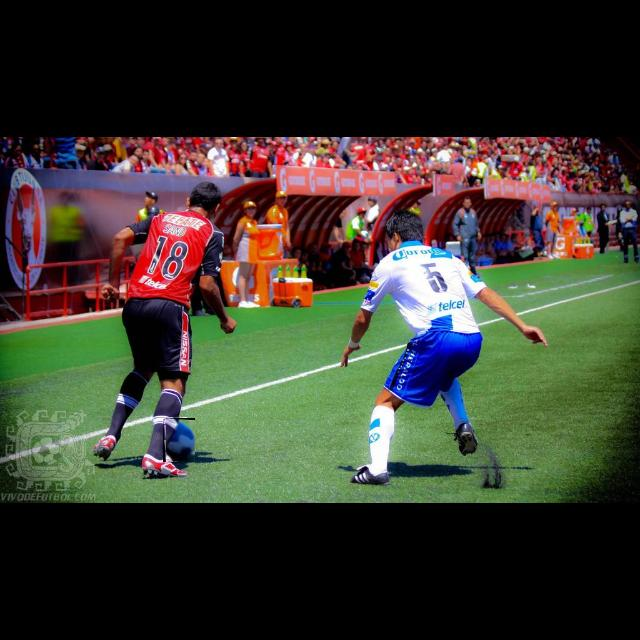Football: (163, 418, 195, 462)
